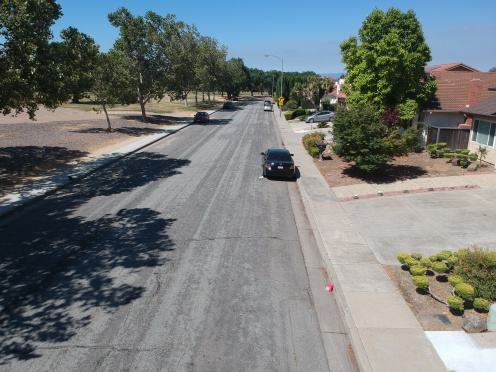plastic bag: (322, 281, 342, 292), (255, 172, 264, 182)
